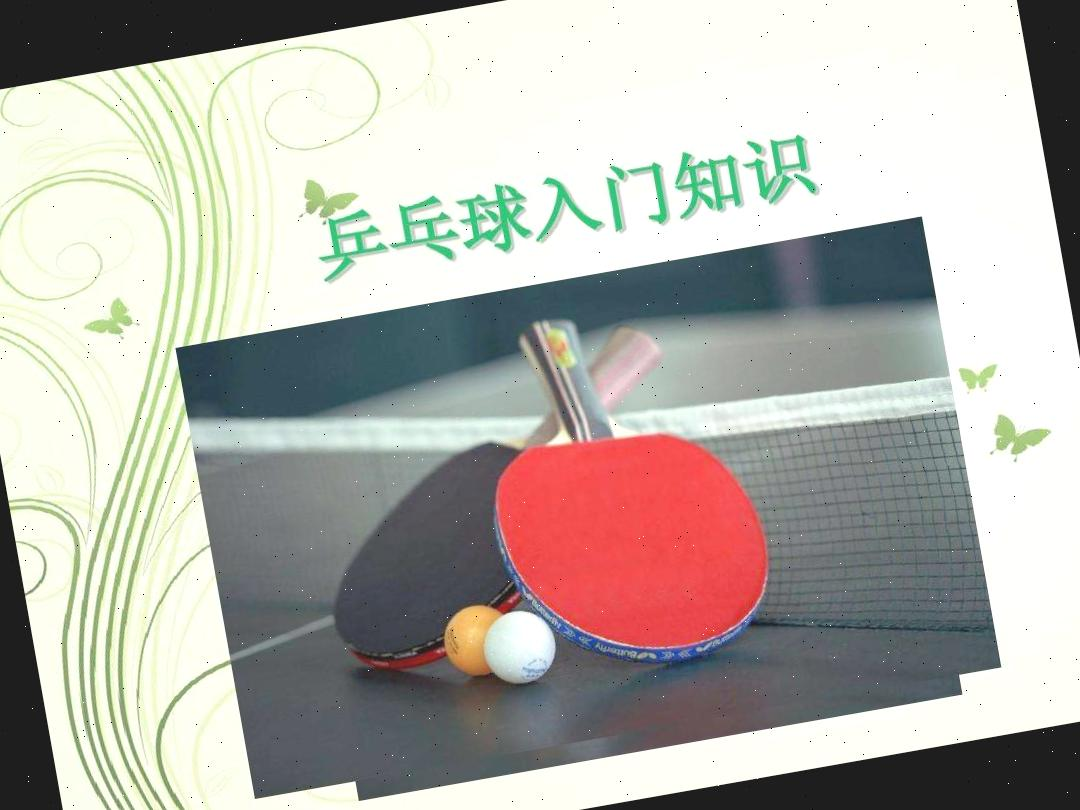ball: (472, 601, 564, 692), (432, 592, 518, 683)
